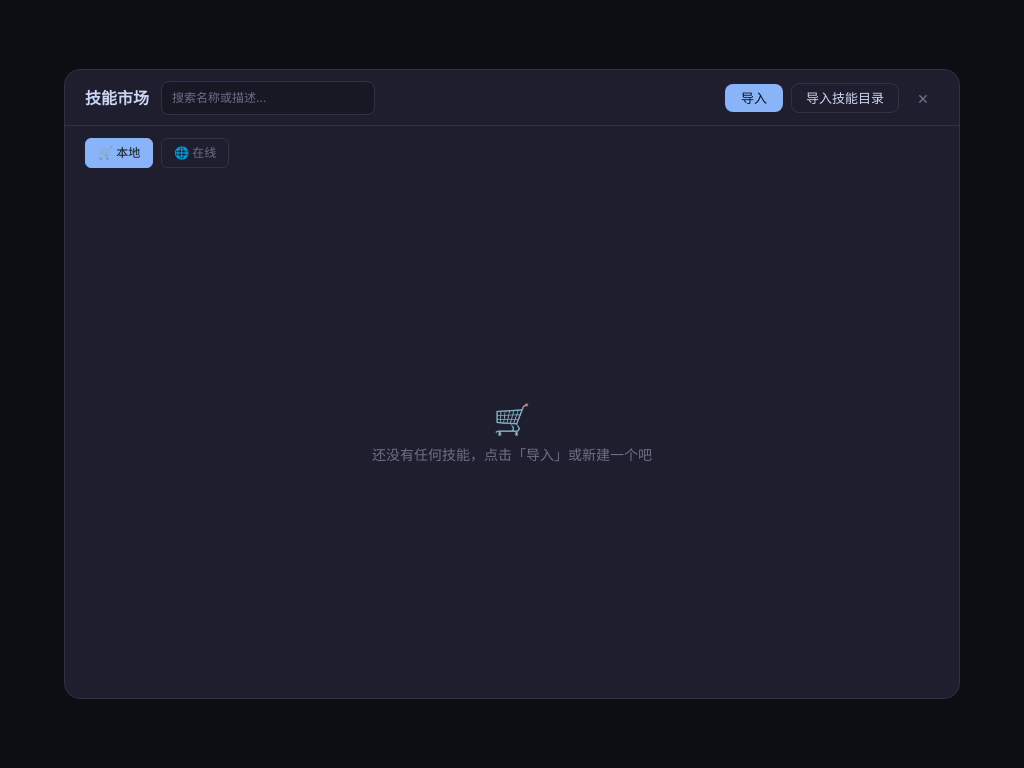
Test case: §322 在线 tab：发请求的是那两颗键，不是每一个字符 › ④ 正向对照：只有最新那条在飞时，它的失败照上说（判据不是"恒不写屏"）
Click the button "🌐 在线". click: [195, 153]
box: left=161, top=138, right=229, bottom=168
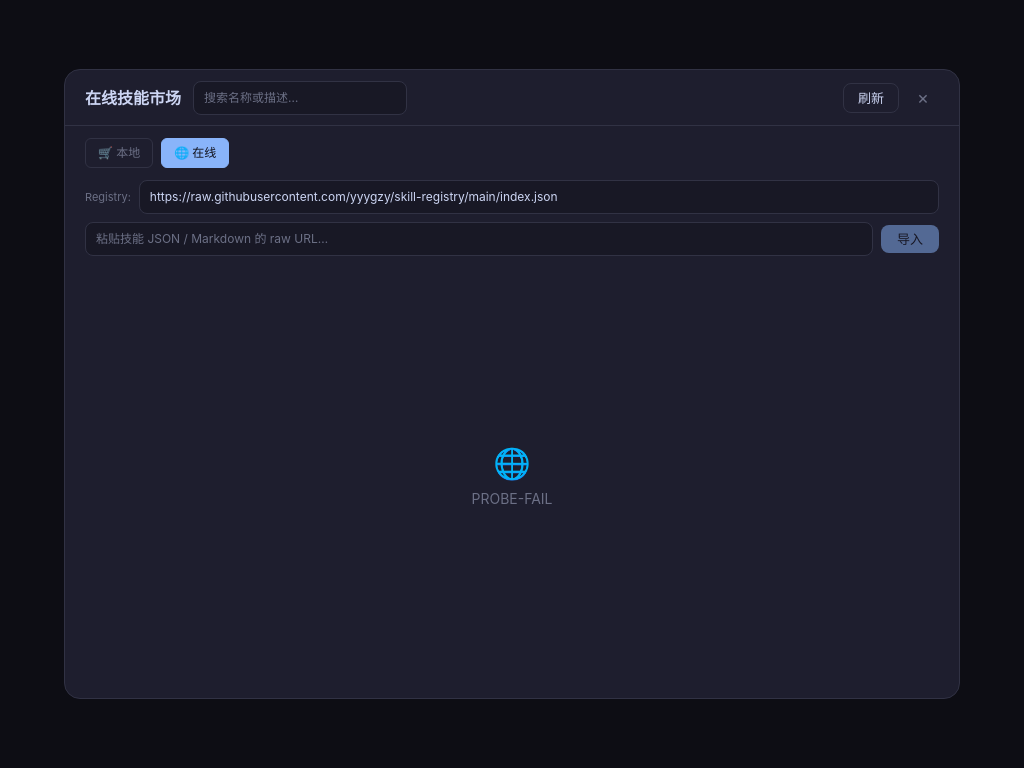
Now the text "PROBE-FAIL" is shown, box left=472, top=489, right=552, bottom=509
